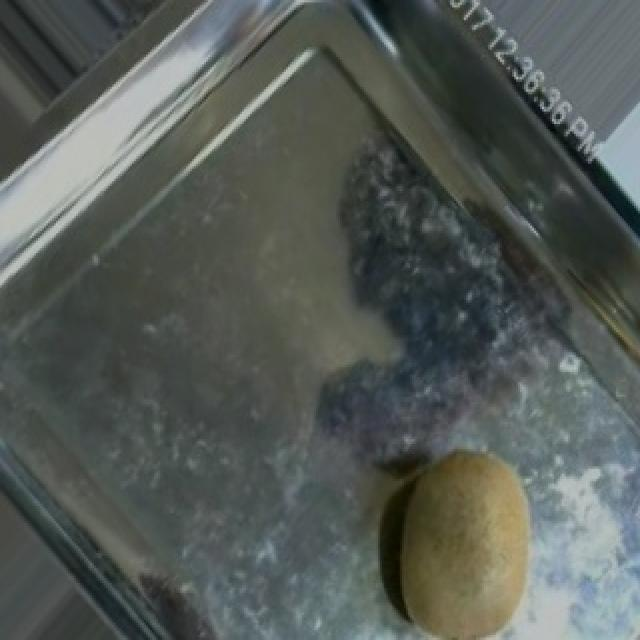Fruit: (362, 429, 552, 640)
